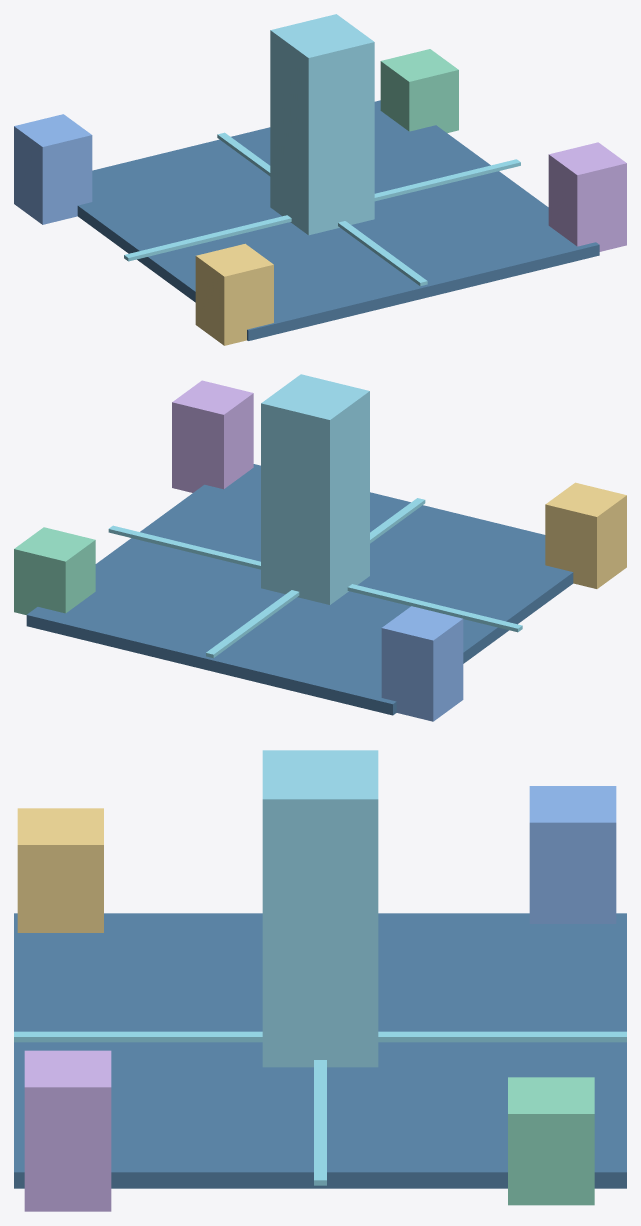
File: ai-exhibition-hall.glb
3 views of the same model, one above another, from view 1: azimuth 30°, elevation 25°; view 2: azimuth 150°, elevation 25°; view 3: azimuth 270°, elevation 25° (orthographic). The views are drawn at different scales.
Visible parts, largest first — view 1: gltf_core_base, gltf_core_tower, gltf_lowpoly_marker_0, gltf_lowpoly_marker_3, gltf_lowpoly_marker_2, gltf_lowpoly_marker_1, gltf_route_x, gltf_route_z; view 2: gltf_core_base, gltf_core_tower, gltf_lowpoly_marker_0, gltf_lowpoly_marker_3, gltf_lowpoly_marker_2, gltf_lowpoly_marker_1, gltf_route_x, gltf_route_z; view 3: gltf_core_base, gltf_core_tower, gltf_lowpoly_marker_3, gltf_lowpoly_marker_0, gltf_lowpoly_marker_1, gltf_lowpoly_marker_2, gltf_route_z, gltf_route_x.
Boxes of the visible parts, <box> form: gltf_core_base: <box>77,100,599,340</box>; gltf_core_tower: <box>270,14,374,235</box>; gltf_lowpoly_marker_0: <box>14,114,92,224</box>; gltf_lowpoly_marker_3: <box>548,142,626,251</box>; gltf_lowpoly_marker_2: <box>195,243,273,345</box>; gltf_lowpoly_marker_1: <box>380,49,458,133</box>; gltf_route_x: <box>124,159,520,261</box>; gltf_route_z: <box>217,132,427,286</box>; gltf_core_base: <box>26,464,573,715</box>; gltf_core_tower: <box>261,374,369,604</box>; gltf_lowpoly_marker_0: <box>381,606,463,721</box>; gltf_lowpoly_marker_3: <box>172,380,253,492</box>; gltf_lowpoly_marker_2: <box>545,482,626,588</box>; gltf_lowpoly_marker_1: <box>14,527,95,614</box>; gltf_route_x: <box>108,525,522,632</box>; gltf_route_z: <box>206,498,425,658</box>; gltf_core_base: <box>14,913,626,1188</box>; gltf_core_tower: <box>262,750,378,1067</box>; gltf_lowpoly_marker_3: <box>24,1050,111,1211</box>; gltf_lowpoly_marker_0: <box>529,786,616,923</box>; gltf_lowpoly_marker_1: <box>508,1077,594,1205</box>; gltf_lowpoly_marker_2: <box>17,808,103,932</box>; gltf_route_z: <box>14,1031,626,1042</box>; gltf_route_x: <box>314,1060,326,1185</box>.
Size of the model in its own units: 10.1 by 4.35 by 8.5.
